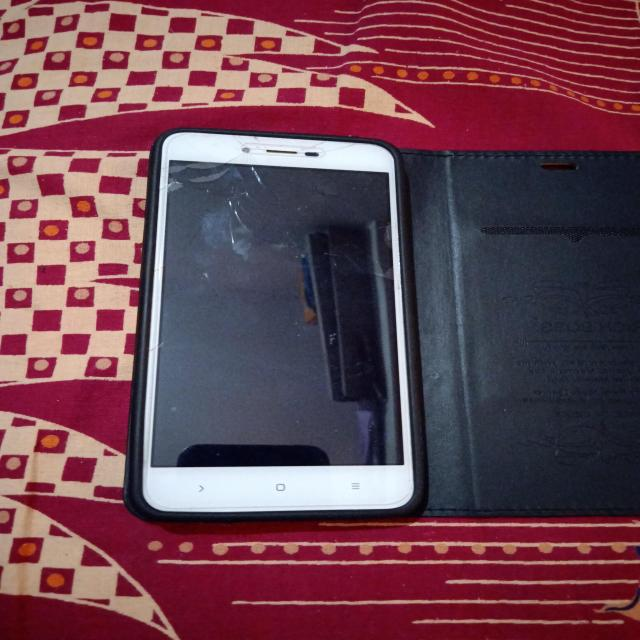mobile: (57, 86, 515, 551)
